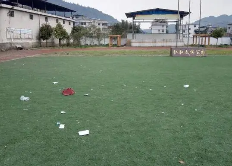garbage: (53, 120, 70, 134), (67, 128, 91, 137), (12, 93, 32, 103), (60, 87, 79, 94), (48, 81, 62, 89), (178, 83, 193, 88), (58, 108, 67, 116)
